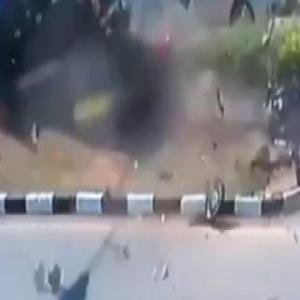critical: (0, 0, 142, 90)
